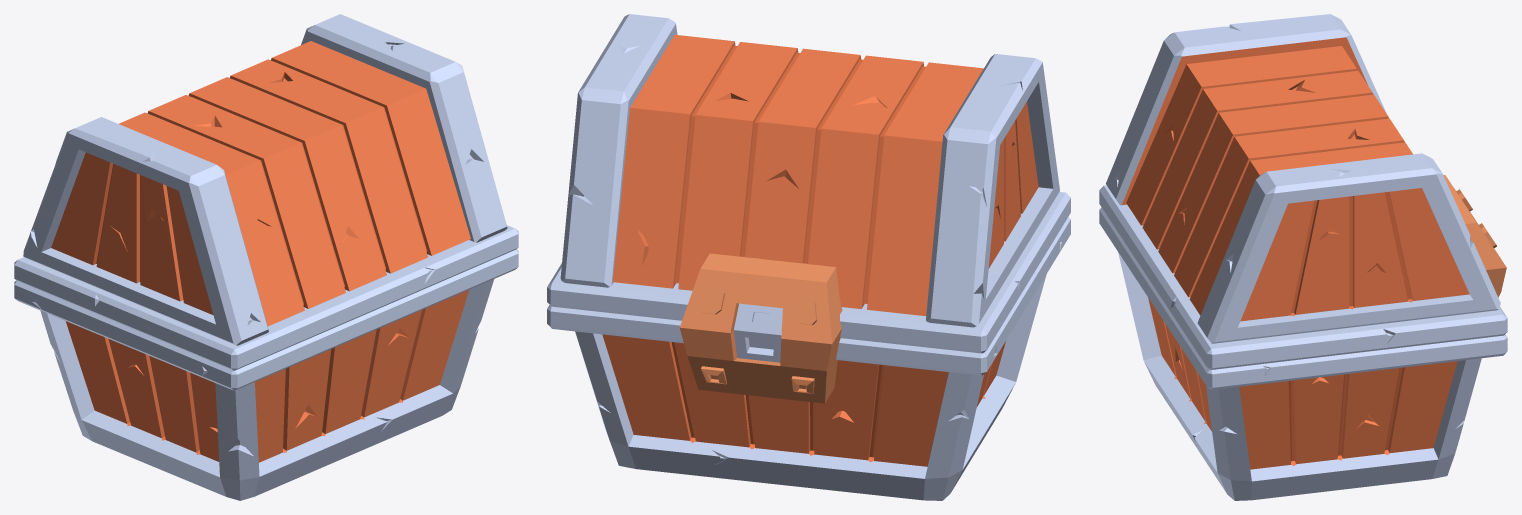
File: Chest.fbx
3 views of the same model, side by side, from view 1: azimuth 30°, elevation 25°; view 2: azimuth 150°, elevation 25°; view 3: azimuth 270°, elevation 25° (orthographic). The views are drawn at different scales.
Visible parts, largest first — view 1: Chest; view 2: Chest; view 3: Chest.
Boxes of the visible parts, x1=… form: Chest: x1=14, y1=14, x2=518, y2=500; Chest: x1=547, y1=14, x2=1070, y2=500; Chest: x1=1099, y1=14, x2=1507, y2=500.
Size of the model in its own units: 306 by 233 by 263.
